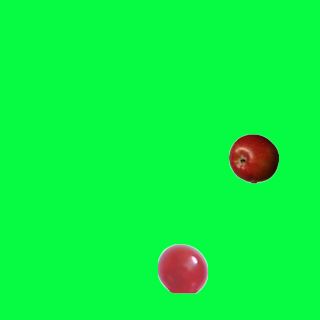Apple Braeburn: (228, 133, 278, 183)
Redcurrant: (157, 243, 207, 293)
